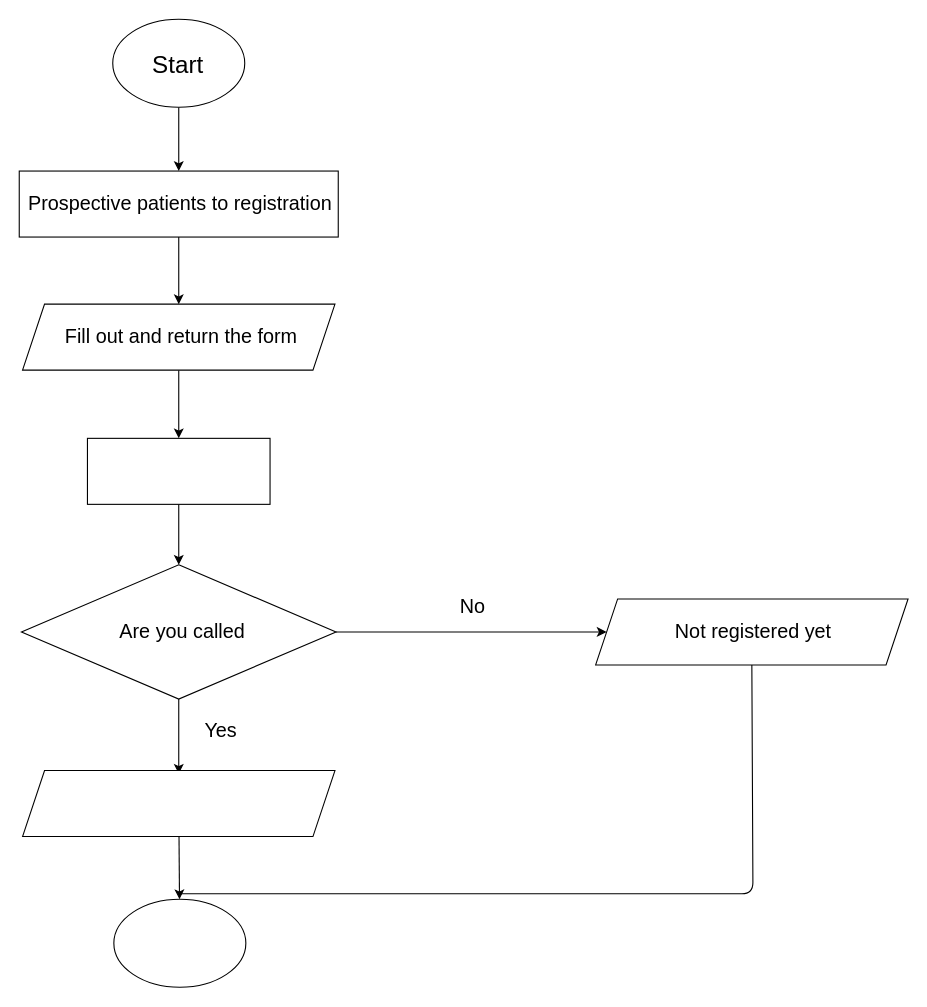
The diagram is 927 pixels wide and 1007 high, and some of its shapes have lost their labels. Each missing label, with the box of its shape:
End: (113, 898, 246, 987)
Receive queue card: (21, 769, 335, 837)
Waiting to be called: (86, 437, 270, 504)
